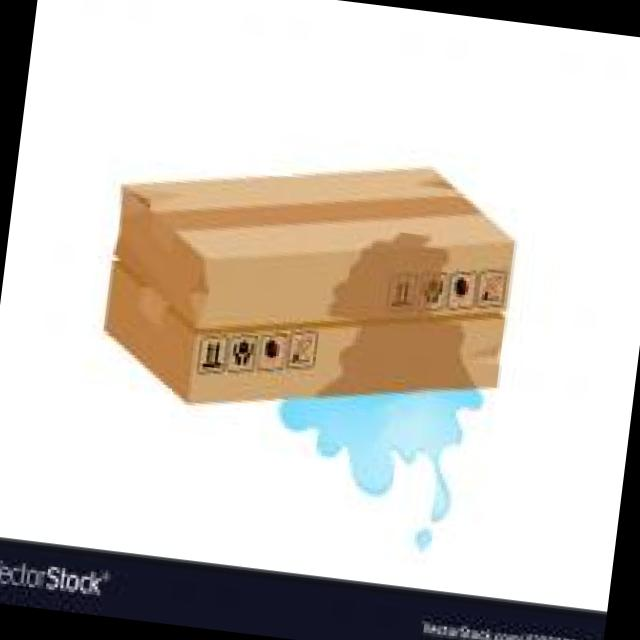box: (102, 167, 514, 400)
contamination: (326, 231, 474, 409)
